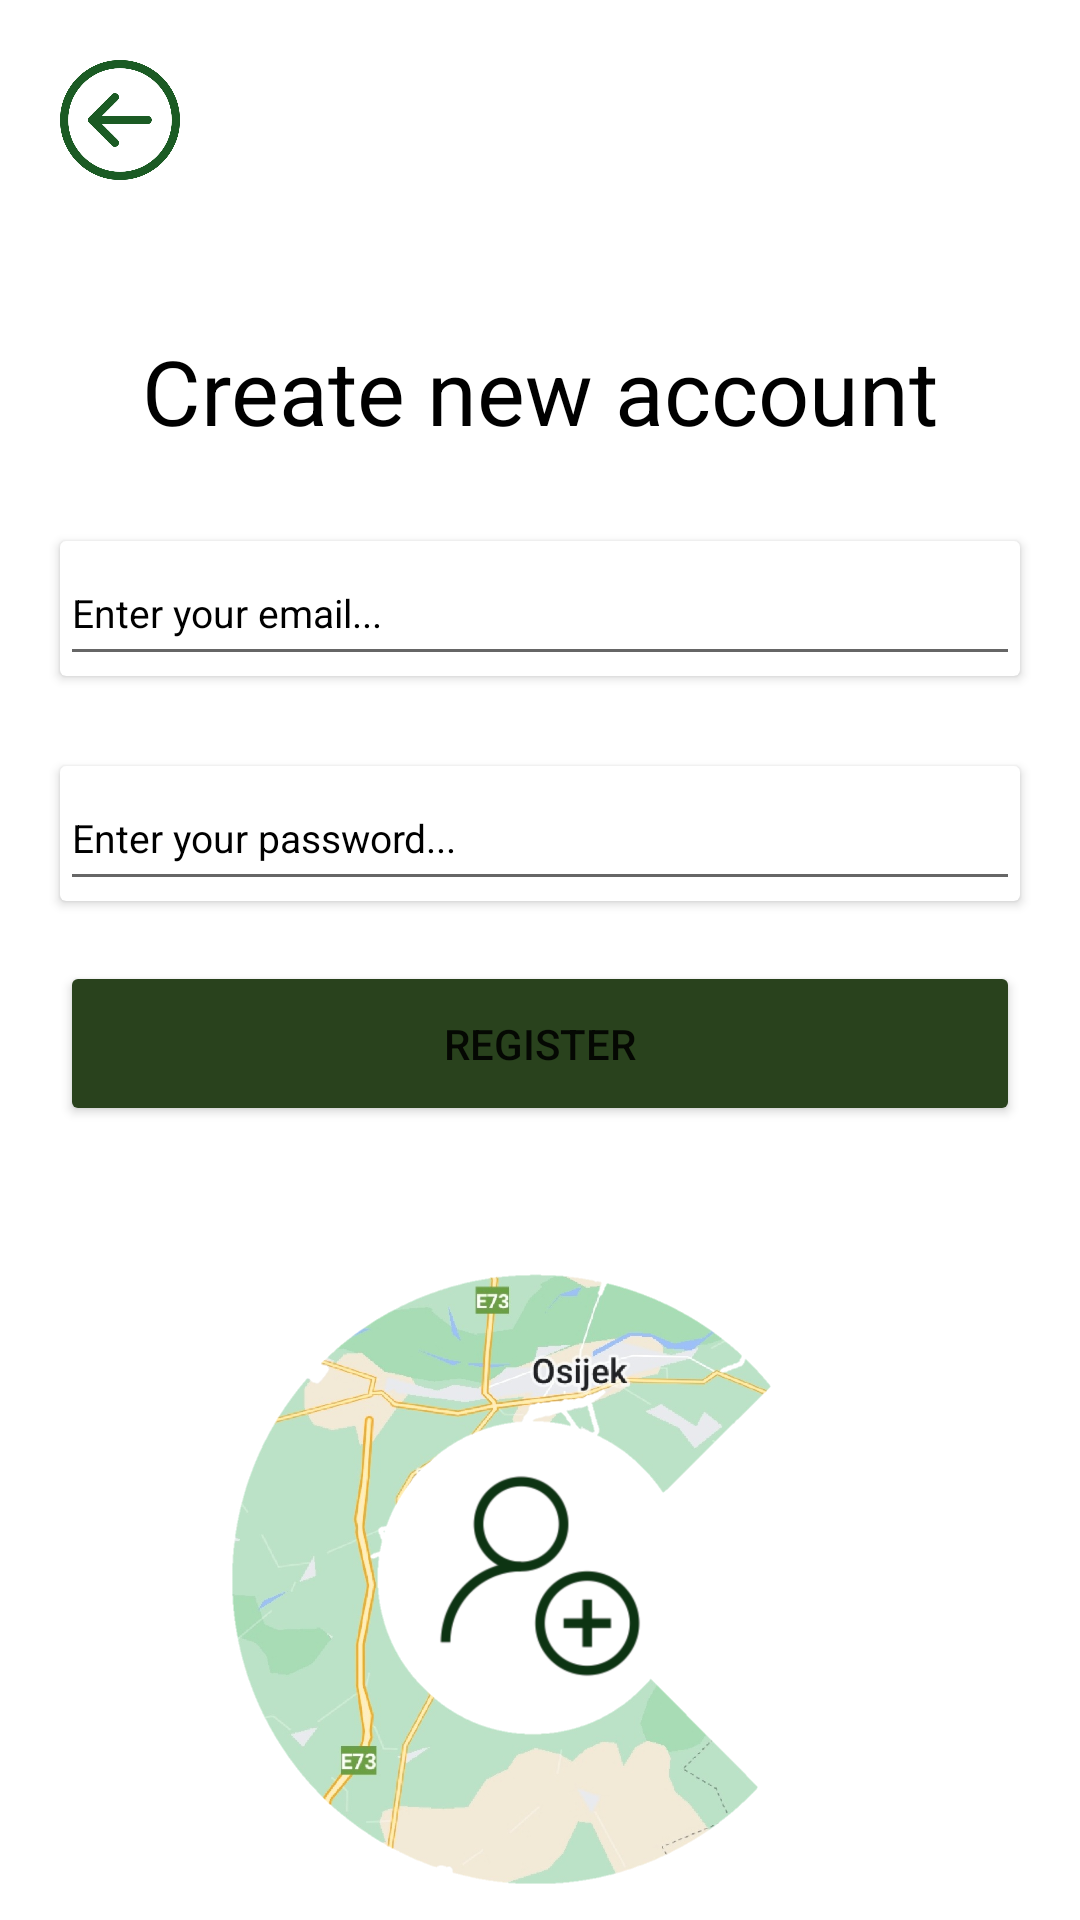

Named icons in this screenshot (1080x1920) and their bounding boxes, (x1, y1, x2, y2):
arrow back: (60, 60, 180, 180)
